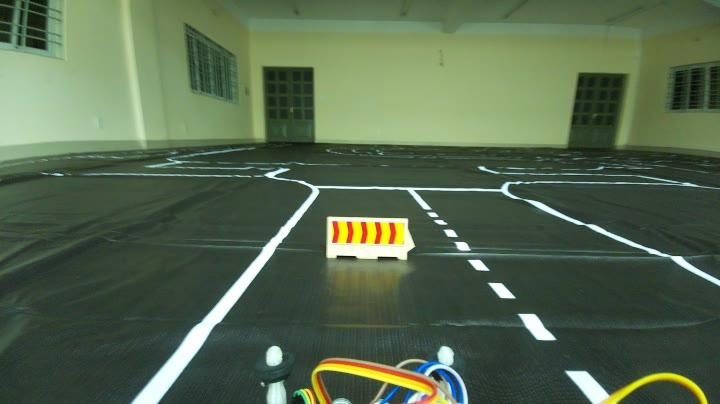roadblock: (318, 202, 425, 274)
